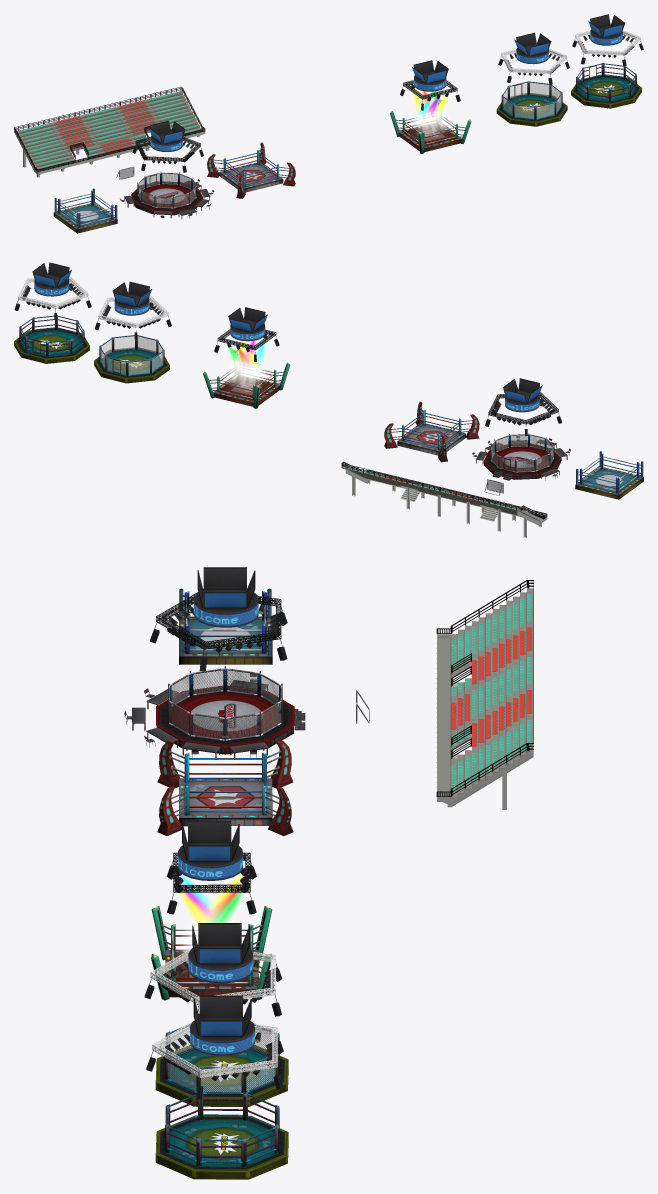
The model's file is street-arena.glb.
The picture shows the model from 3 angles, top to bottom: view 1: azimuth 30°, elevation 25°; view 2: azimuth 150°, elevation 25°; view 3: azimuth 270°, elevation 25°; orthographic projection. The views are drawn at different scales.
Visible parts, largest first — view 1: cartoon boxing arena_ stands, cartoon boxing arena 1, cartoon boxing arena 3, cartoon boxing arena 4, cartoon boxing arena 2, cartoon boxing arena 5, cartoon boxing arena 6, cartoon boxing arena_stands fence, cartoon boxing arena 2_fence, cartoon boxing arena 1_Fecen, cartoon boxing arena 5_Led, cartoon boxing arena 3_Led (+9 smaller); view 2: cartoon boxing arena 1, cartoon boxing arena 3, cartoon boxing arena_ stands, cartoon boxing arena 4, cartoon boxing arena 2, cartoon boxing arena 5, cartoon boxing arena 6, cartoon boxing arena 2_fence, cartoon boxing arena 1_Fecen, cartoon boxing arena 3_Led, cartoon boxing arena 2_Led, cartoon boxing arena 5_Led (+9 smaller); view 3: cartoon boxing arena_ stands, cartoon boxing arena 1, cartoon boxing arena 3, cartoon boxing arena 4, cartoon boxing arena 2, cartoon boxing arena 1_Fecen, cartoon boxing arena 6, cartoon boxing arena 5, cartoon boxing arena 1_led, cartoon boxing arena 3_Led, cartoon boxing arena 2_Led, cartoon boxing arena 5_Led (+6 smaller).
Boxes of the visible parts, <box> form: cartoon boxing arena_ stands: <box>14,91,205,177</box>; cartoon boxing arena 1: <box>124,172,210,218</box>; cartoon boxing arena 3: <box>571,63,641,108</box>; cartoon boxing arena 4: <box>207,142,295,198</box>; cartoon boxing arena 2: <box>496,81,567,126</box>; cartoon boxing arena 5: <box>390,99,471,153</box>; cartoon boxing arena 6: <box>53,188,117,233</box>; cartoon boxing arena_stands fence: <box>14,87,205,172</box>; cartoon boxing arena 2_fence: <box>503,81,561,118</box>; cartoon boxing arena 1_Fecen: <box>138,173,196,207</box>; cartoon boxing arena 5_Led: <box>412,60,448,91</box>; cartoon boxing arena 3_Led: <box>588,14,624,45</box>; cartoon boxing arena 1: <box>476,433,567,480</box>; cartoon boxing arena 3: <box>14,315,89,363</box>; cartoon boxing arena_ stands: <box>342,466,547,537</box>; cartoon boxing arena 4: <box>384,401,479,462</box>; cartoon boxing arena 2: <box>94,334,169,383</box>; cartoon boxing arena 5: <box>203,350,290,408</box>; cartoon boxing arena 6: <box>575,451,643,499</box>; cartoon boxing arena 2_fence: <box>100,335,163,375</box>; cartoon boxing arena 1_Fecen: <box>491,435,553,471</box>; cartoon boxing arena 3_Led: <box>32,262,71,296</box>; cartoon boxing arena 2_Led: <box>112,281,151,315</box>; cartoon boxing arena 5_Led: <box>228,307,267,341</box>; cartoon boxing arena_ stands: <box>437,588,533,809</box>; cartoon boxing arena 1: <box>146,666,294,759</box>; cartoon boxing arena 3: <box>155,1092,288,1179</box>; cartoon boxing arena 4: <box>157,740,293,835</box>; cartoon boxing arena 2: <box>155,1024,288,1106</box>; cartoon boxing arena 1_Fecen: <box>169,670,281,739</box>; cartoon boxing arena 6: <box>179,588,272,664</box>; cartoon boxing arena 5: <box>151,906,272,1000</box>; cartoon boxing arena 1_led: <box>193,567,258,627</box>; cartoon boxing arena 3_Led: <box>190,995,254,1055</box>; cartoon boxing arena 2_Led: <box>188,923,253,983</box>; cartoon boxing arena 5_Led: <box>178,820,242,880</box>.
Bounding box in the file's own units: 44.78 × 5.75 × 13.89.
Materials: 14 (14 with a texture image).
